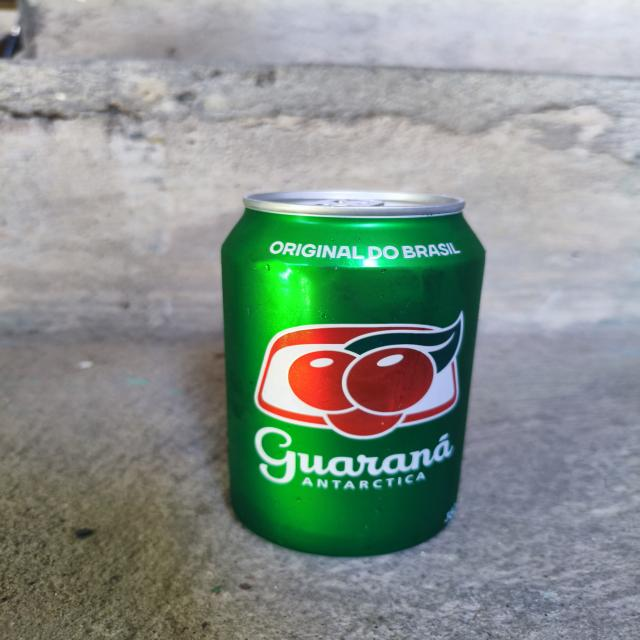Guarana: (219, 185, 477, 558)
